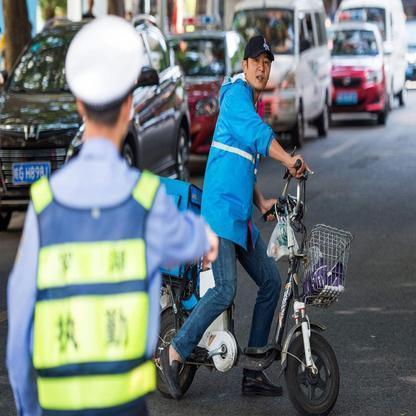target: (157, 36, 349, 411)
